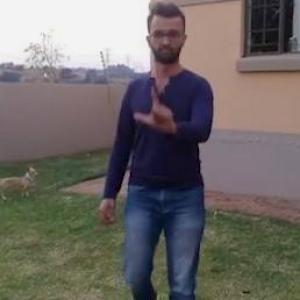land_hand: (132, 78, 182, 139)
